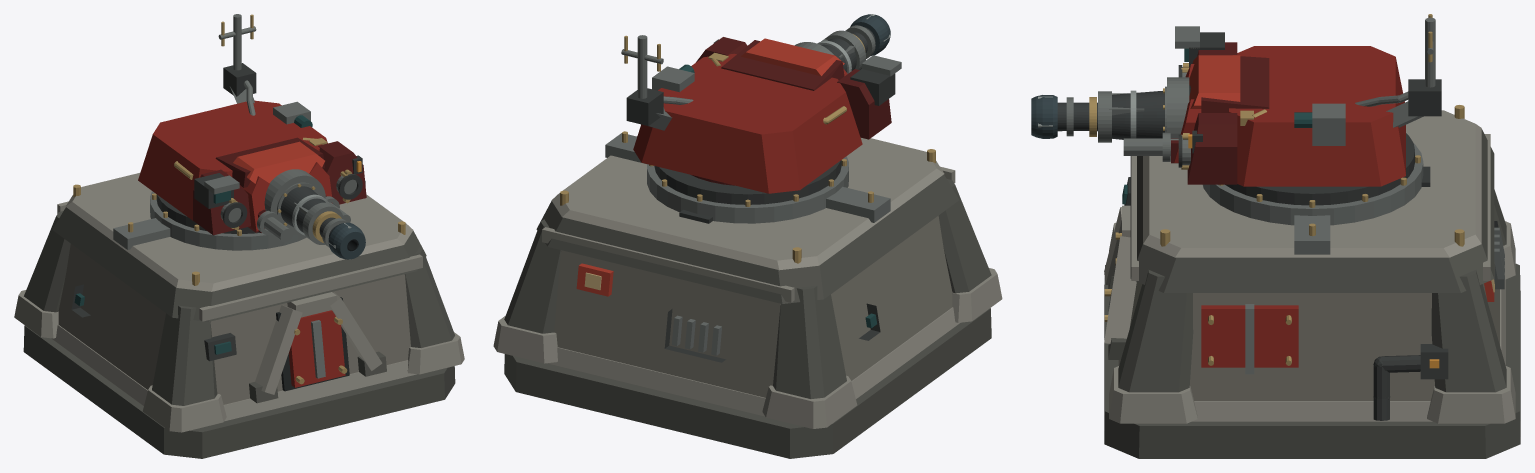
The model's file is martian_heavy_weapon_bunker_v07_flat_export.glb.
The picture shows the model from 3 angles, left to right: view 1: azimuth 30°, elevation 25°; view 2: azimuth 150°, elevation 25°; view 3: azimuth 270°, elevation 25°; orthographic projection. The views are drawn at different scales.
Visible parts, largest first — view 1: 03_monolithic_bunker_mass, 01_foundation_granular_ferrocrete, 05_top_concrete_skin, 16_martian_red_turret_armor, 04_upper_blast_cap, 06_corner_armor_buttress_WS, 02_lower_blast_raft, 53_south_slab_anchor_strip, 06_corner_armor_buttress_ES, 09_steel_service_hatch, 06_corner_armor_buttress_WN, 13_ring_lower_bearing_seat (+25 smaller); view 2: 03_monolithic_bunker_mass, 16_martian_red_turret_armor, 05_top_concrete_skin, 01_foundation_granular_ferrocrete, 04_upper_blast_cap, 02_lower_blast_raft, 06_corner_armor_buttress_WN, 13_ring_lower_bearing_seat, 06_corner_armor_buttress_EN, 06_corner_armor_buttress_WS, 14_ring_open_bearing_race, 07_corner_buttress_foot_WN (+17 smaller); view 3: 05_top_concrete_skin, 16_martian_red_turret_armor, 03_monolithic_bunker_mass, 01_foundation_granular_ferrocrete, 04_upper_blast_cap, 06_corner_armor_buttress_ES, 06_corner_armor_buttress_EN, 55_east_wall_controller_armor, 02_lower_blast_raft, 13_ring_lower_bearing_seat, 18_turret_front_cheek_E, 07_corner_buttress_foot_ES (+25 smaller).
Boxes of the visible parts, left/top/right/bottom form: 03_monolithic_bunker_mass: left=58, top=243, right=410, bottom=404; 01_foundation_granular_ferrocrete: left=23, top=325, right=455, bottom=458; 05_top_concrete_skin: left=65, top=173, right=413, bottom=291; 16_martian_red_turret_armor: left=138, top=100, right=327, bottom=220; 04_upper_blast_cap: left=52, top=207, right=426, bottom=321; 06_corner_armor_buttress_WS: left=152, top=305, right=217, bottom=405; 02_lower_blast_raft: left=51, top=324, right=416, bottom=421; 53_south_slab_anchor_strip: left=199, top=254, right=422, bottom=321; 06_corner_armor_buttress_ES: left=404, top=247, right=454, bottom=347; 09_steel_service_hatch: left=288, top=310, right=345, bottom=387; 06_corner_armor_buttress_WN: left=24, top=211, right=70, bottom=312; 13_ring_lower_bearing_seat: left=150, top=191, right=306, bottom=250; 03_monolithic_bunker_mass: left=554, top=215, right=952, bottom=397; 16_martian_red_turret_armor: left=633, top=53, right=862, bottom=193; 05_top_concrete_skin: left=551, top=136, right=944, bottom=270; 01_foundation_granular_ferrocrete: left=504, top=308, right=991, bottom=458; 04_upper_blast_cap: left=536, top=174, right=959, bottom=303; 02_lower_blast_raft: left=548, top=307, right=960, bottom=416; 06_corner_armor_buttress_WN: left=773, top=286, right=846, bottom=398; 13_ring_lower_bearing_seat: left=647, top=156, right=848, bottom=223; 06_corner_armor_buttress_EN: left=504, top=219, right=561, bottom=333; 06_corner_armor_buttress_WS: left=938, top=179, right=991, bottom=293; 14_ring_open_bearing_race: left=654, top=160, right=841, bottom=204; 07_corner_buttress_foot_WN: left=762, top=375, right=857, bottom=428; 05_top_concrete_skin: left=1143, top=110, right=1481, bottom=257; 16_martian_red_turret_armor: left=1228, top=46, right=1405, bottom=186; 03_monolithic_bunker_mass: left=1130, top=262, right=1499, bottom=400; 01_foundation_granular_ferrocrete: left=1104, top=263, right=1520, bottom=458; 04_upper_blast_cap: left=1130, top=129, right=1494, bottom=292; 06_corner_armor_buttress_ES: left=1118, top=270, right=1193, bottom=392; 06_corner_armor_buttress_EN: left=1431, top=270, right=1506, bottom=392; 55_east_wall_controller_armor: left=1201, top=305, right=1298, bottom=367; 02_lower_blast_raft: left=1118, top=279, right=1505, bottom=421; 13_ring_lower_bearing_seat: left=1203, top=143, right=1423, bottom=225; 18_turret_front_cheek_E: left=1187, top=113, right=1237, bottom=184; 07_corner_buttress_foot_ES: left=1109, top=366, right=1197, bottom=423.
Bounding box in the file's own units: 3.04 × 3.01 × 3.53.
